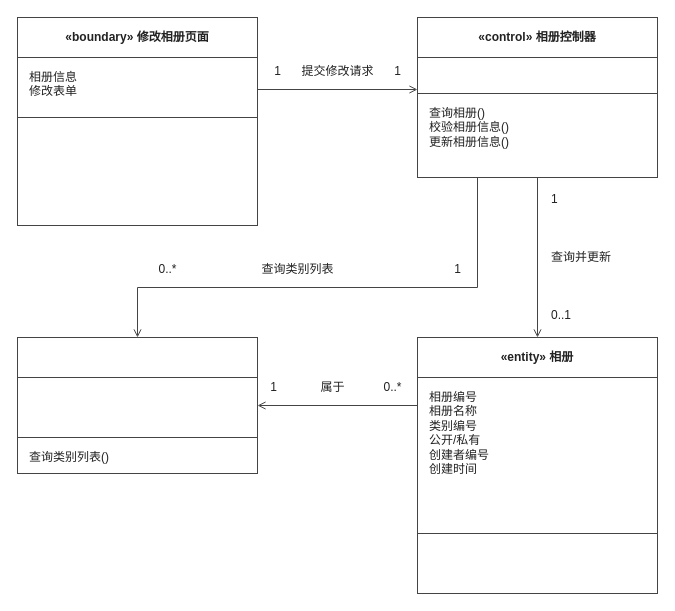
Image size: 675x611. Some labels were removed from this diagram. Each missing label, with the centre of its shape:
«entity» 相册类别: point 137,357
保存() 更新(): point 537,563
显示相册信息() 读取修改内容() 提示错误信息() 返回相册列表(): point 137,171
类别编号 类别名称: point 137,407
